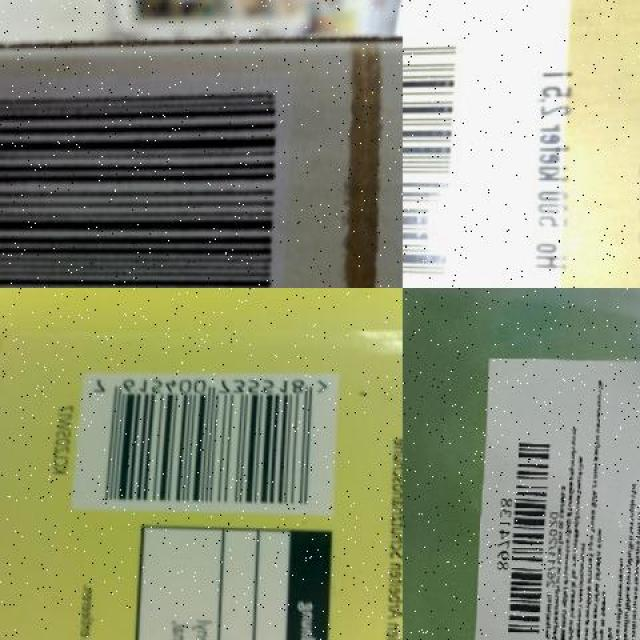Barcode: (0, 73, 292, 288), (77, 371, 343, 513), (403, 24, 477, 288), (496, 429, 556, 640)
